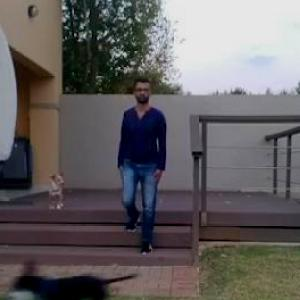follow: (118, 77, 168, 284)
